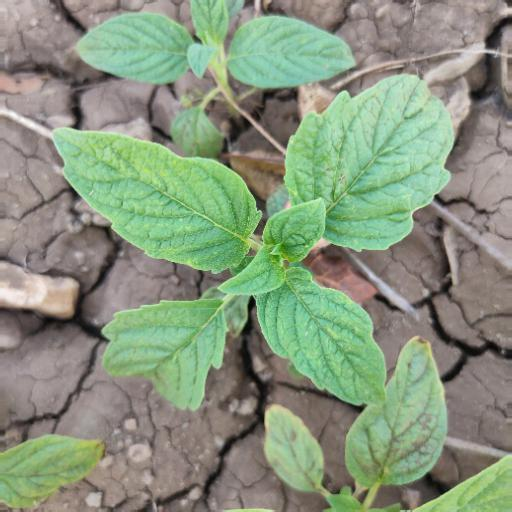crop: (2, 69, 512, 402)
